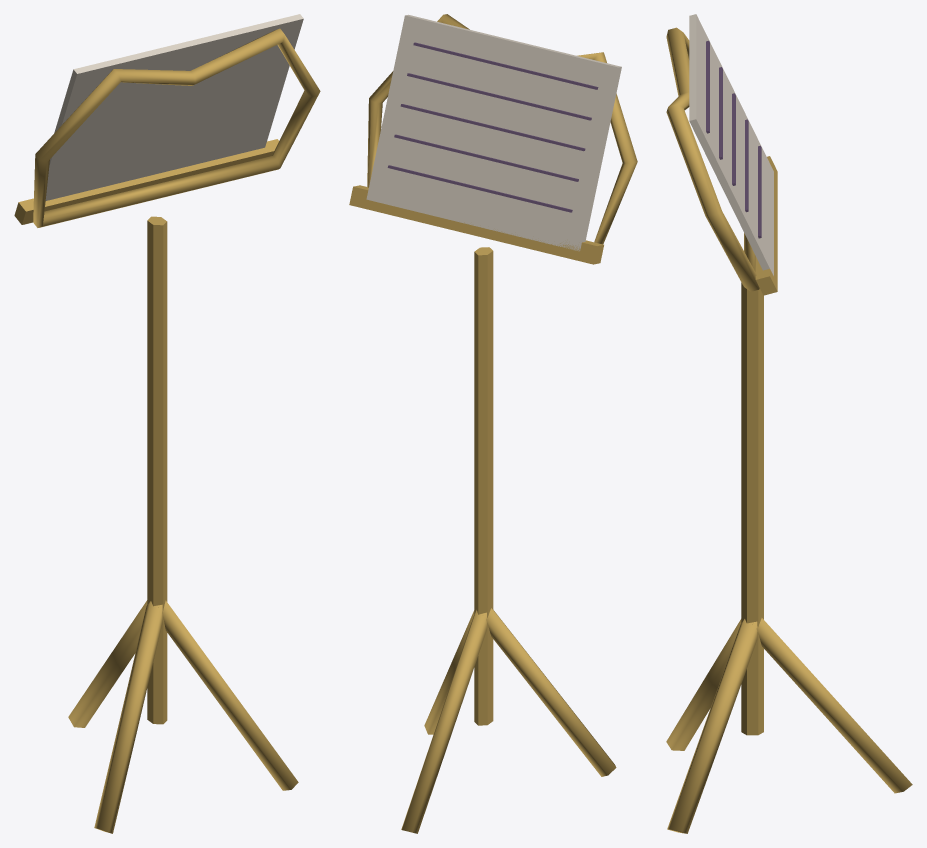
Rendered from music_stand.glb.
3 renders of one model, left to right at view 1: azimuth 30°, elevation 25°; view 2: azimuth 150°, elevation 25°; view 3: azimuth 270°, elevation 25°, orthographic. The views are drawn at different scales.
Parts seen in each view (by area): view 1: music_stand; view 2: music_stand; view 3: music_stand.
Boxes of the visible parts, <box> form: music_stand: <box>14,14,320,833</box>; music_stand: <box>349,14,637,833</box>; music_stand: <box>666,14,912,833</box>.
Size of what is drawn, in the model's own units: 0.5 by 1.3 by 0.4.
